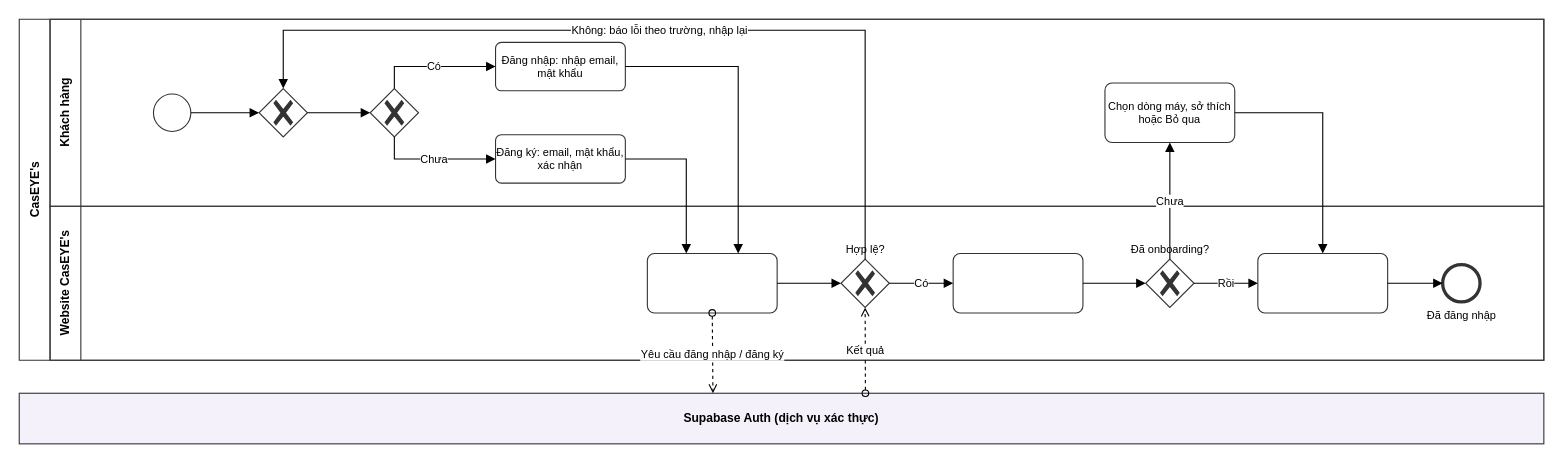
This 1563x463 diagram has some shape labels left out. Each missing label, with the box of its shape:
Cần đăng nhập (lưu, giỏ, hồ sơ): (152, 93, 191, 131)
Kiểm tra định dạng, gửi yêu cầu xác thực: (646, 252, 777, 313)
Lưu trạng thái, quay lại màn hình đang dở: (1257, 252, 1388, 313)
Tạo phiên; hồ sơ tự tạo (chờ onboarding): (952, 252, 1083, 313)
Đã có tài khoản?: (369, 87, 419, 137)
